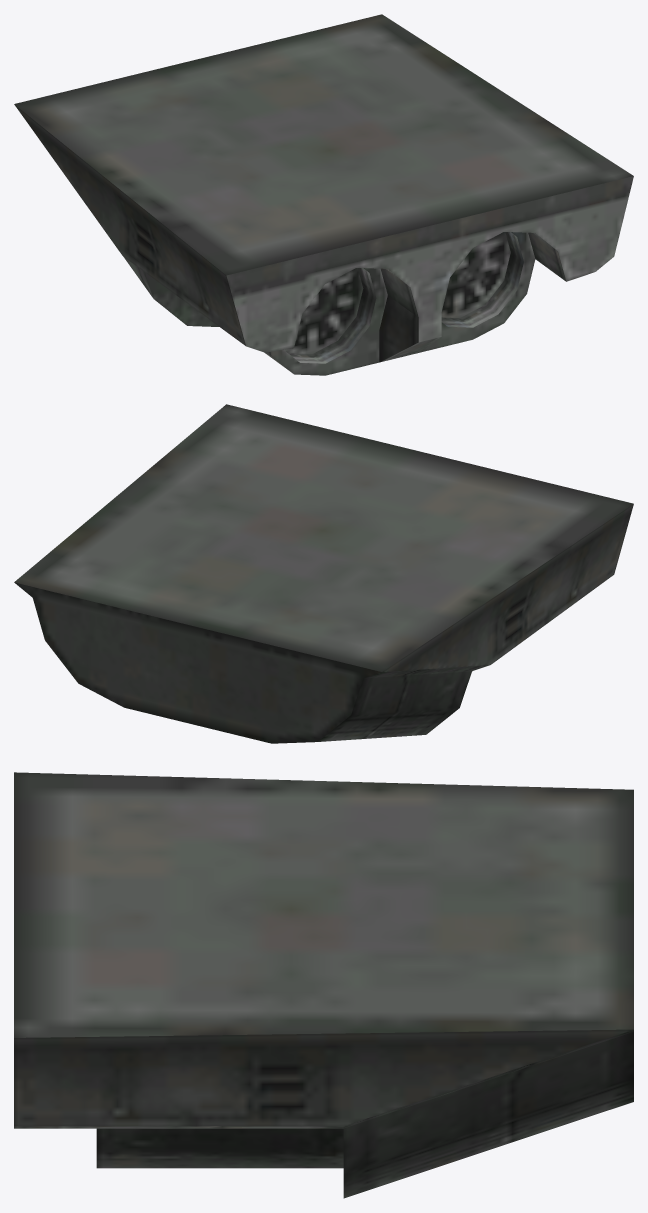
File: black_sun_fighter_heavy_missile_pod_s02_l0.fbx
3 views of the same model, one above another, from view 1: azimuth 30°, elevation 25°; view 2: azimuth 150°, elevation 25°; view 3: azimuth 270°, elevation 25° (orthographic). The views are drawn at different scales.
Visible parts, largest first — view 1: mesh_node; view 2: mesh_node; view 3: mesh_node.
Boxes of the visible parts, x1,y1,x2,y2 form: mesh_node: (14, 14, 633, 375); mesh_node: (14, 404, 633, 743); mesh_node: (14, 772, 633, 1198).
Bounding box in the file's own units: 1.36 × 0.5538 × 1.34.
